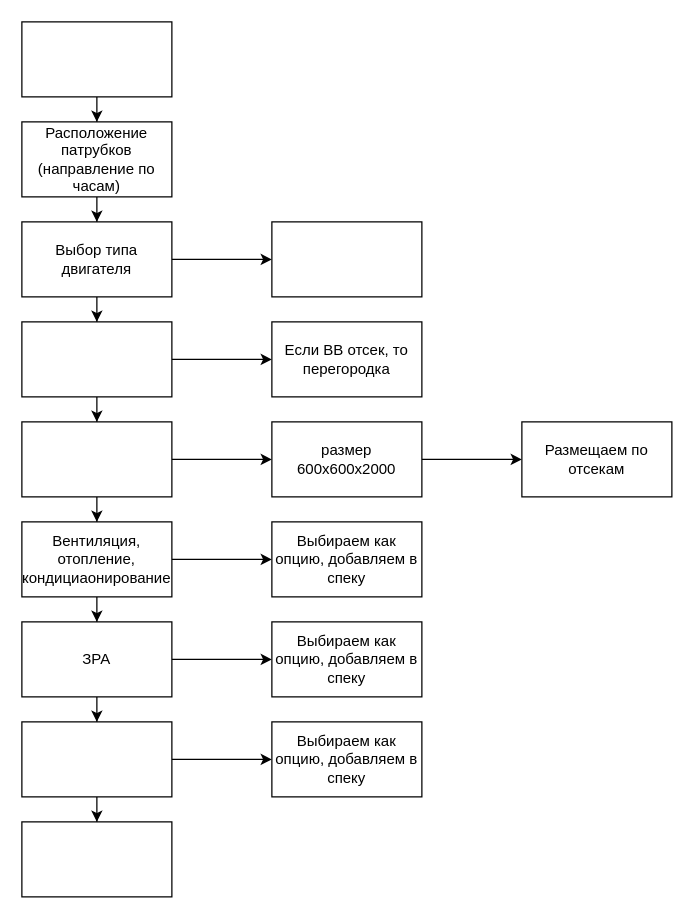
This 694x919 diagram has some shape labels left out. The shapes that lost their labels are listed below. From the top down, each one's centre as x and y in pixels, then its label:
At pixel 96 59: "Габариты насоса с двигателем".
At pixel 346 259: "Если дизель, то размещаем вплотную к стенке".
At pixel 96 359: "Исполнение модуля".
At pixel 96 459: "Шкафы ЭО".
At pixel 96 759: "КИП".
